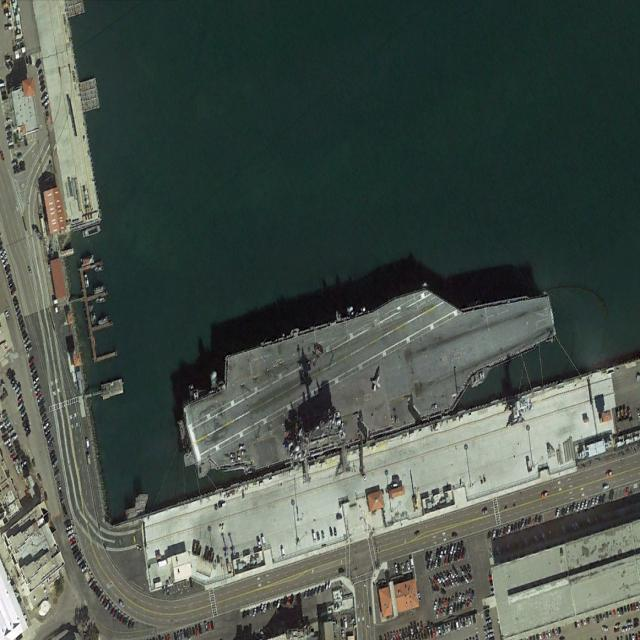Aircraft Carrier: (169, 249, 564, 496)
